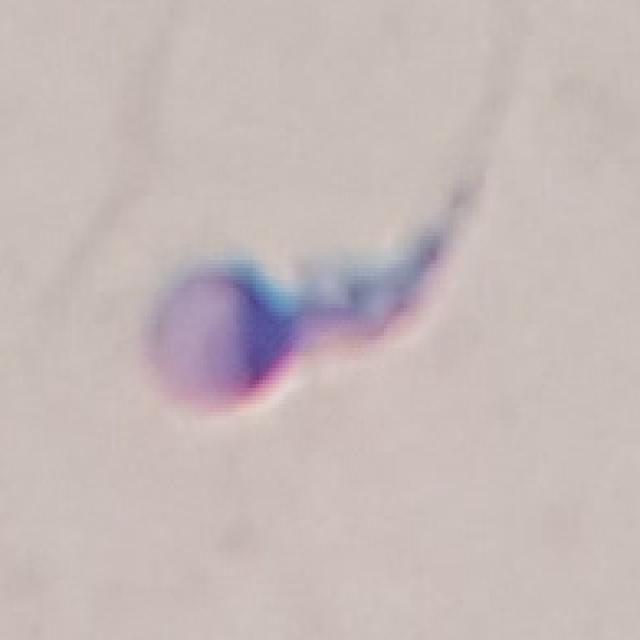abnormal sperm: (148, 136, 494, 414)
